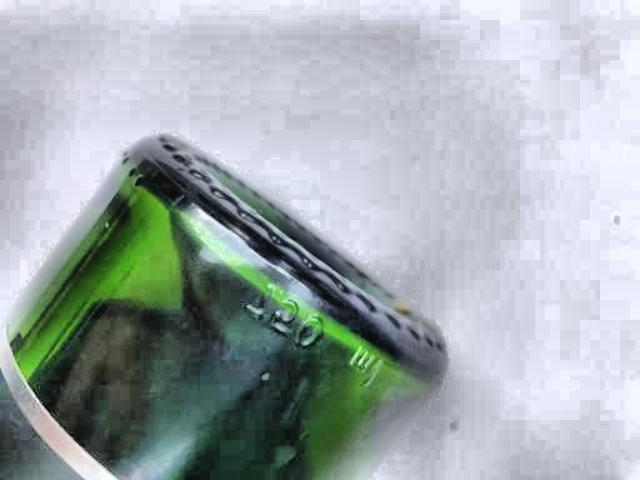Bottles: (0, 102, 468, 480)
